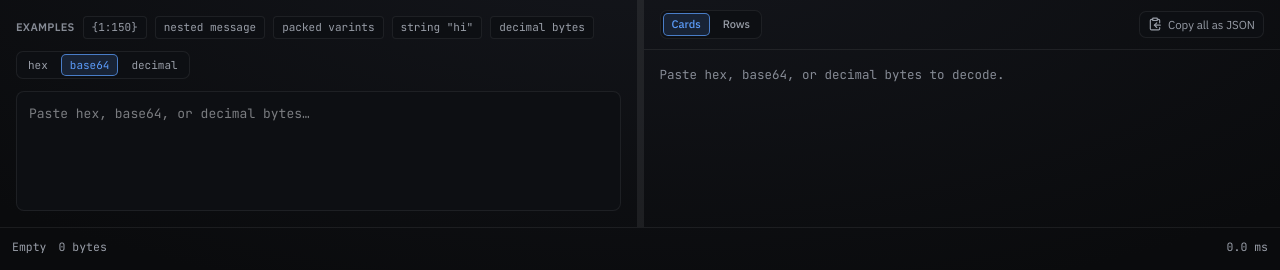
Scenario: ProtobufDecoder › clicking an example chip fills + decodes the input (D-03)
Step 1. Click the button "{1:150}" → click(115, 27), box [82,16,147,38]
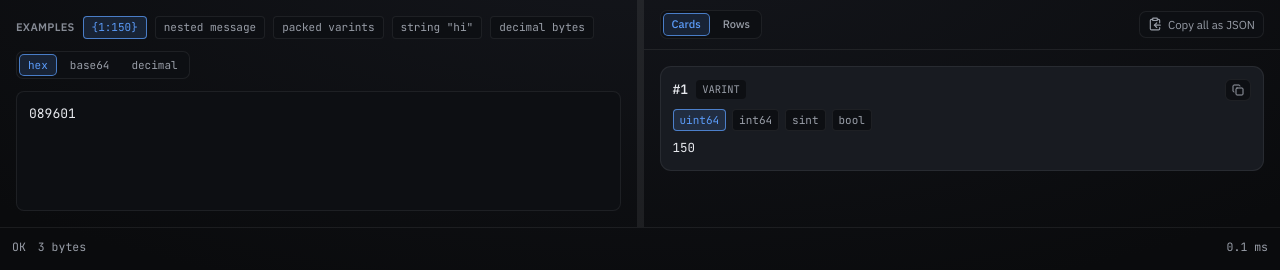
Result: the text "#1" is shown at [672,80,688,99]
